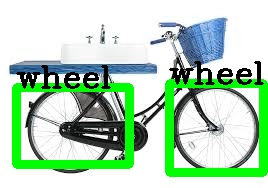wheel: (16, 87, 129, 164), (169, 83, 263, 172)
